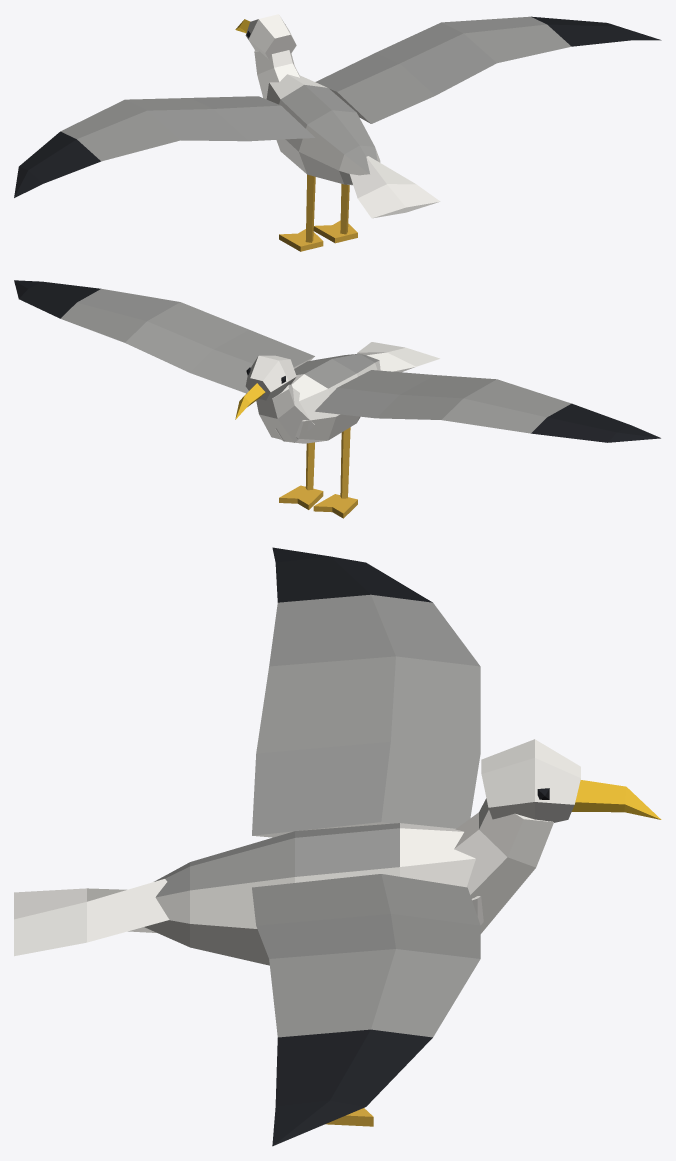
Rendered from seagull.glb.
The picture shows the model from 3 angles, top to bottom: view 1: azimuth 30°, elevation 25°; view 2: azimuth 150°, elevation 25°; view 3: azimuth 270°, elevation 25°; orthographic projection. The views are drawn at different scales.
Parts seen in each view (by area): view 1: Wing_R, Wing_L, Body, Tail, Head, Legs; view 2: Wing_R, Wing_L, Body, Head, Legs, Tail; view 3: Wing_L, Wing_R, Body, Head, Tail.
Part boxes in pixels (x1,y1,x2,y2): Wing_R: (315,16,661,123); Wing_L: (14,96,314,197); Body: (266,74,380,185); Tail: (349,156,440,218); Head: (235,14,299,99); Legs: (279,174,357,251); Wing_R: (14,280,314,393); Wing_L: (315,370,660,442); Body: (274,353,380,443); Head: (235,355,314,442); Legs: (279,427,357,518); Tail: (357,342,439,372); Wing_L: (252,547,480,837); Wing_R: (252,874,480,1146); Body: (144,823,483,965); Head: (454,739,661,933); Tail: (14,879,169,956).
Bounding box in the file's own units: 1.31 × 0.3562 × 0.6005.
